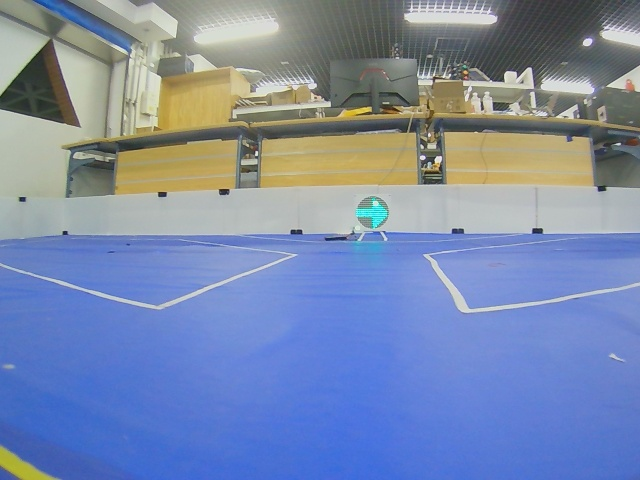right_green: (356, 196, 389, 229)
